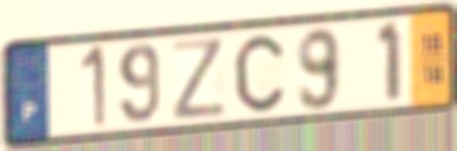1: (374, 19, 408, 105), (79, 43, 107, 132)
9: (294, 25, 342, 112), (115, 41, 162, 127)
C: (231, 32, 287, 115)
Z: (170, 36, 229, 124)
